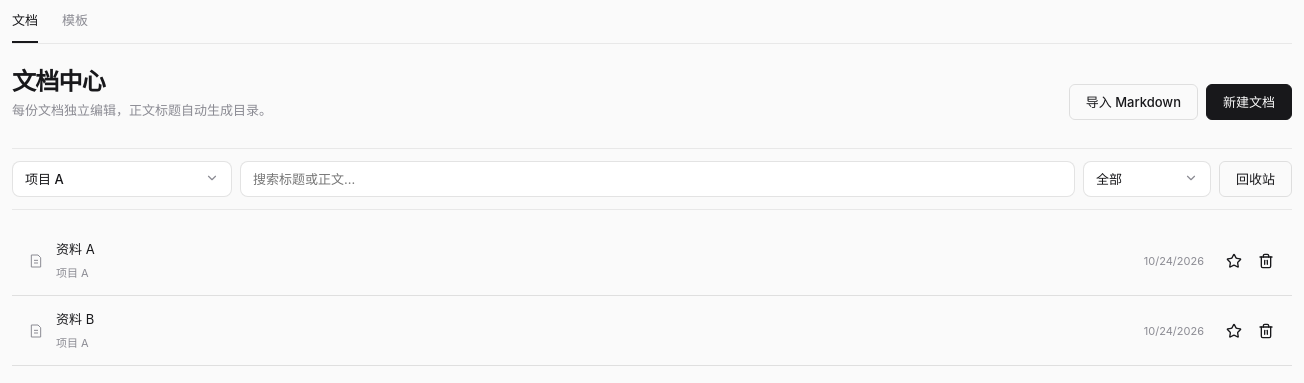
Test case: updates a document favorite without reloading records or preferences
Click the button named "收藏 资料 A" at {"x": 1234, "y": 261}, box top-left (1220, 247), bottom-right (1248, 275)
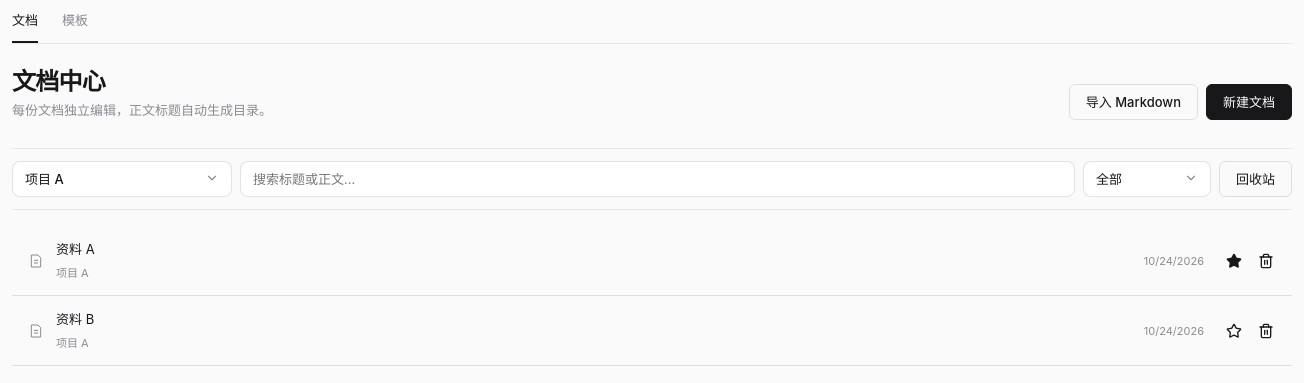
Expected: the button named "取消收藏 资料 A" is shown, top-left (1220, 247), bottom-right (1248, 275)
